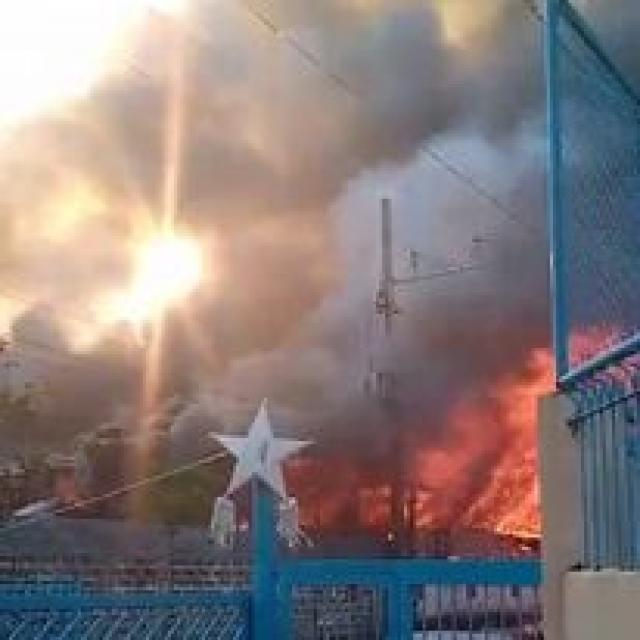Fire: (432, 383, 536, 533)
Smoke: (204, 24, 376, 402), (383, 21, 552, 397)
